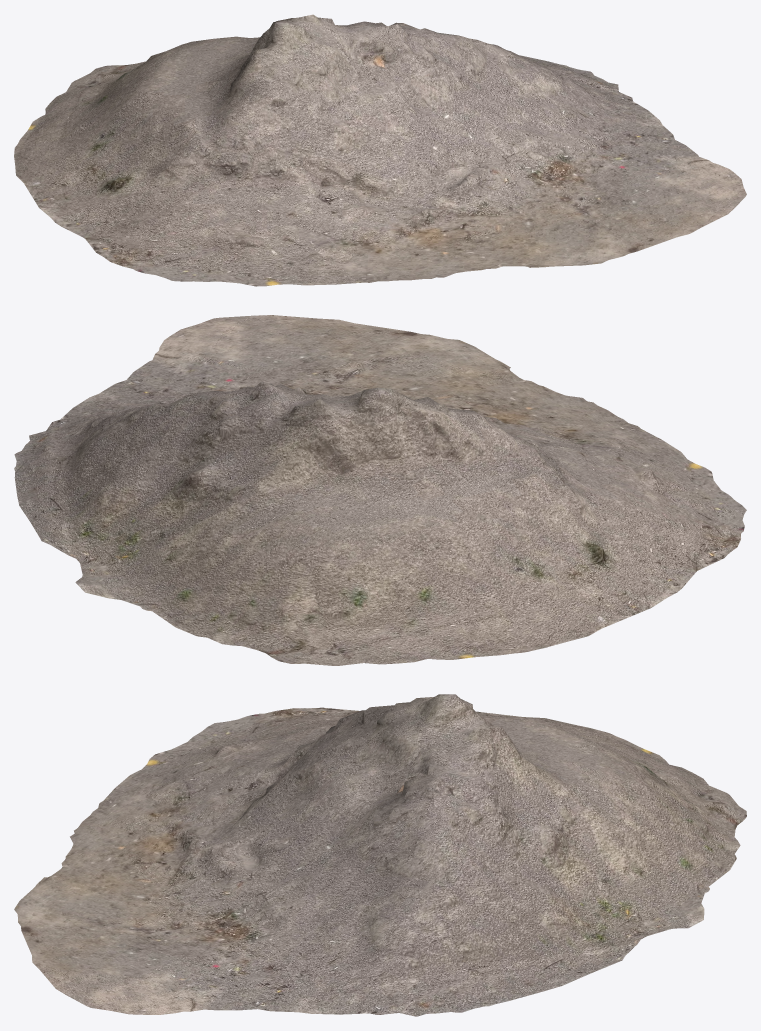
File: mat-sand.glb
The picture shows the model from 3 angles, top to bottom: view 1: azimuth 30°, elevation 25°; view 2: azimuth 150°, elevation 25°; view 3: azimuth 270°, elevation 25°; orthographic projection. The views are drawn at different scales.
Parts seen in each view (by area): view 1: Construction_Sand_Pile_Construction_Sand_Pile_Mat_0; view 2: Construction_Sand_Pile_Construction_Sand_Pile_Mat_0; view 3: Construction_Sand_Pile_Construction_Sand_Pile_Mat_0.
Boxes of the visible parts, box(x1,y1,x2,y2) form: Construction_Sand_Pile_Construction_Sand_Pile_Mat_0: box(14, 14, 746, 286); Construction_Sand_Pile_Construction_Sand_Pile_Mat_0: box(14, 315, 746, 665); Construction_Sand_Pile_Construction_Sand_Pile_Mat_0: box(14, 694, 746, 1016).
Size of the model in its own units: 5.93 by 1.29 by 5.94.
Materials: 1 (1 with a texture image).
